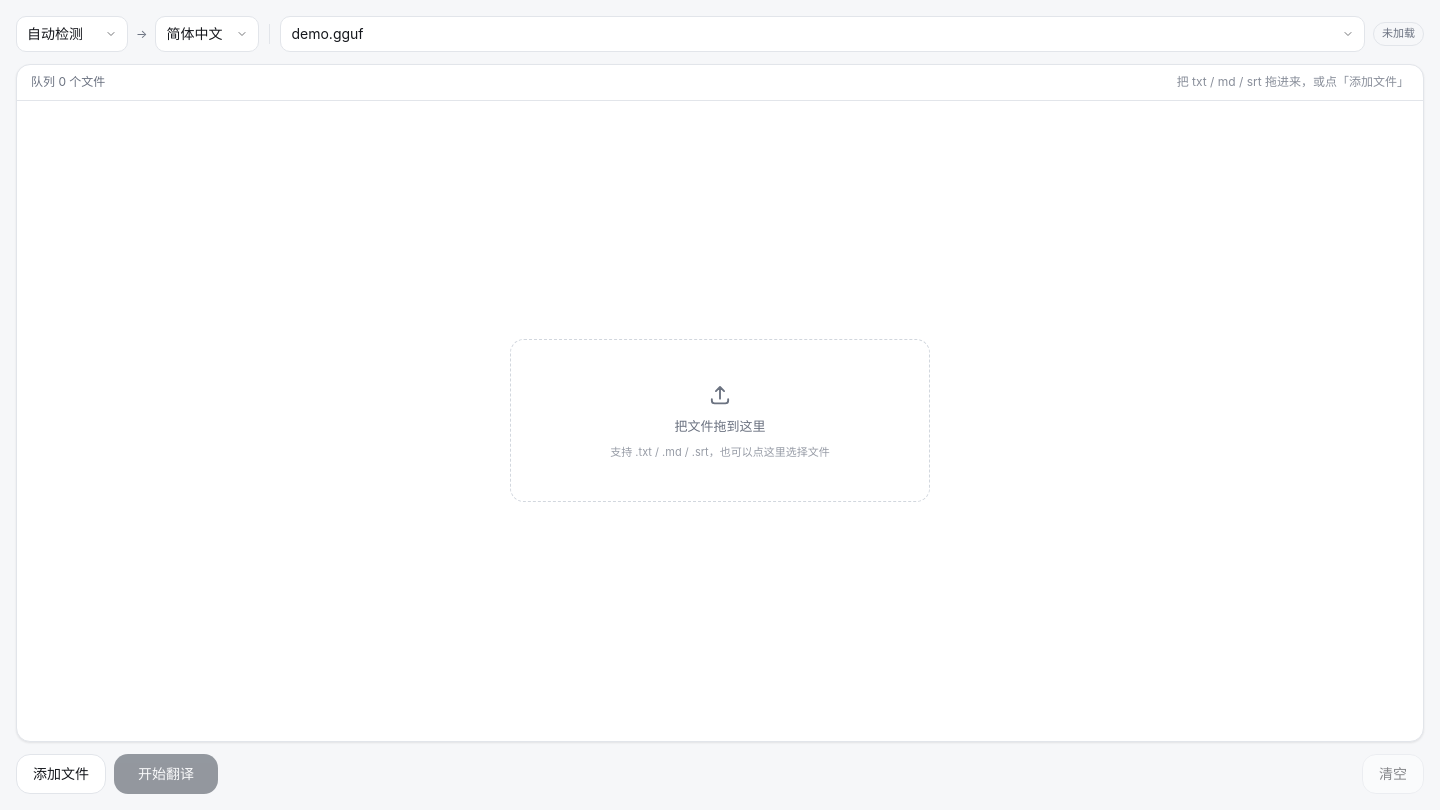
Batch · 断点续传的界面反馈 › 不支持的文件类型会被拒绝，不进入队列
Click the button "添加文件": (61, 774) top-left (16, 754), bottom-right (106, 794)
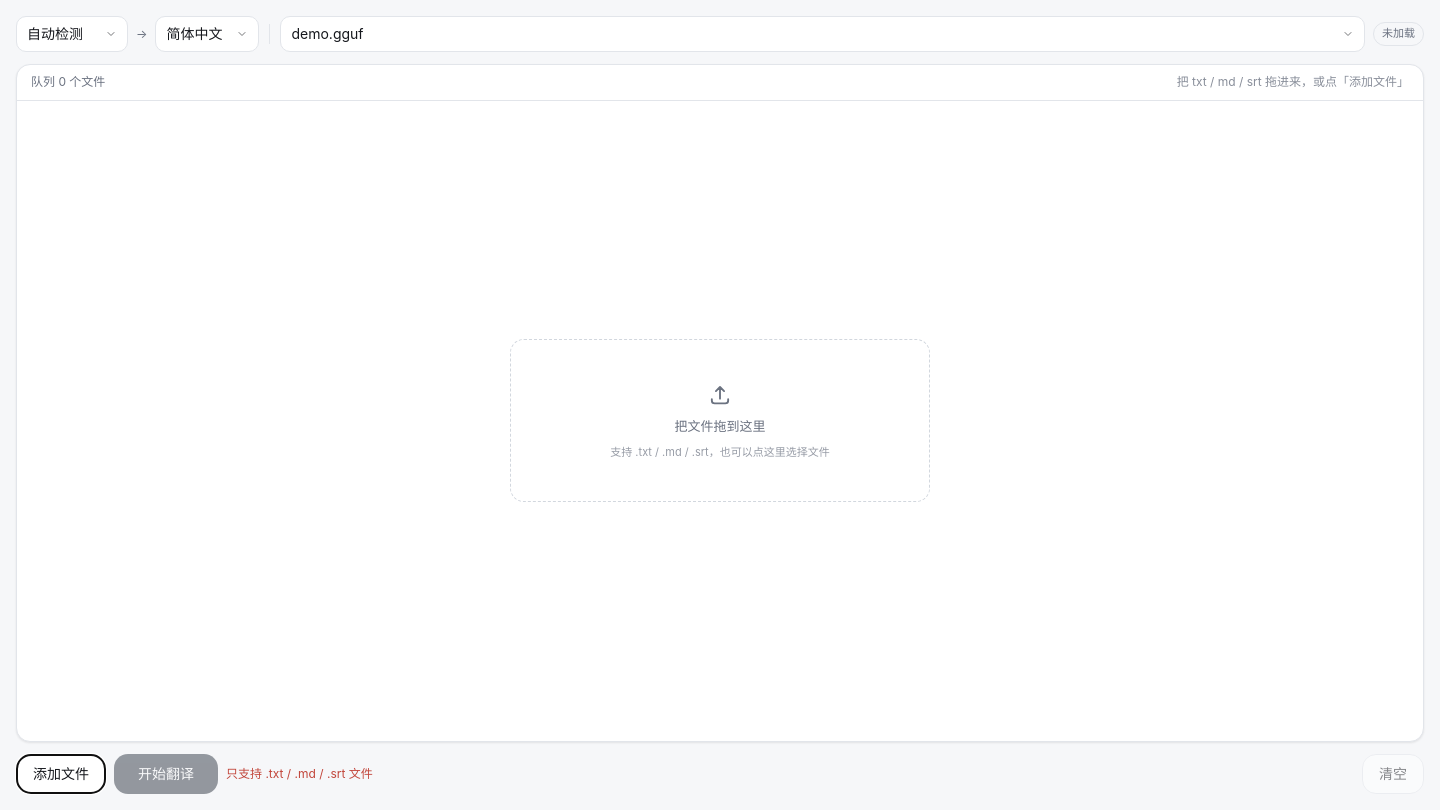
Result: the text "只支持 .txt / .md / .srt 文件" is shown at top-left (226, 765), bottom-right (373, 783)
